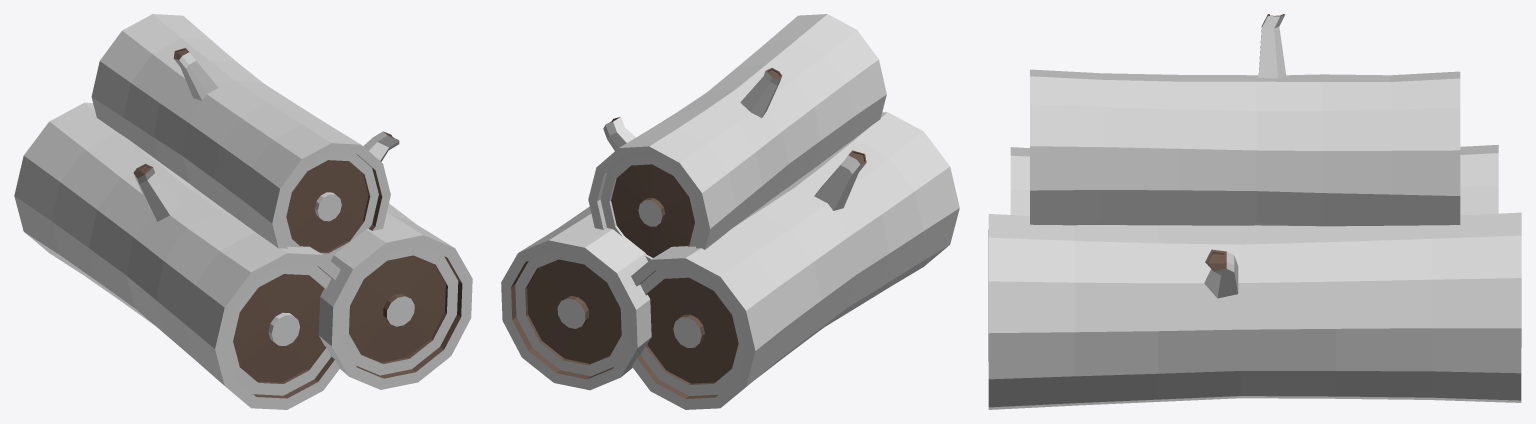
File: Madera.fbx
The picture shows the model from 3 angles, left to right: view 1: azimuth 30°, elevation 25°; view 2: azimuth 150°, elevation 25°; view 3: azimuth 270°, elevation 25°; orthographic projection. The views are drawn at different scales.
Parts seen in each view (by area): view 1: Madera3, Madera2, Madera1; view 2: Madera3, Madera2, Madera1; view 3: Madera1, Madera2, Madera3.
Part boxes in pixels (<box>): Madera3: <box>14,102,340,409</box>; Madera2: <box>91,14,390,260</box>; Madera1: <box>318,131,472,389</box>; Madera3: <box>631,112,959,409</box>; Madera2: <box>588,14,886,261</box>; Madera1: <box>501,117,651,390</box>; Madera1: <box>988,212,1521,409</box>; Madera2: <box>1030,14,1460,226</box>; Madera3: <box>1010,144,1498,215</box>.
Size of the model in its own units: 85.31 by 84.29 by 122.
